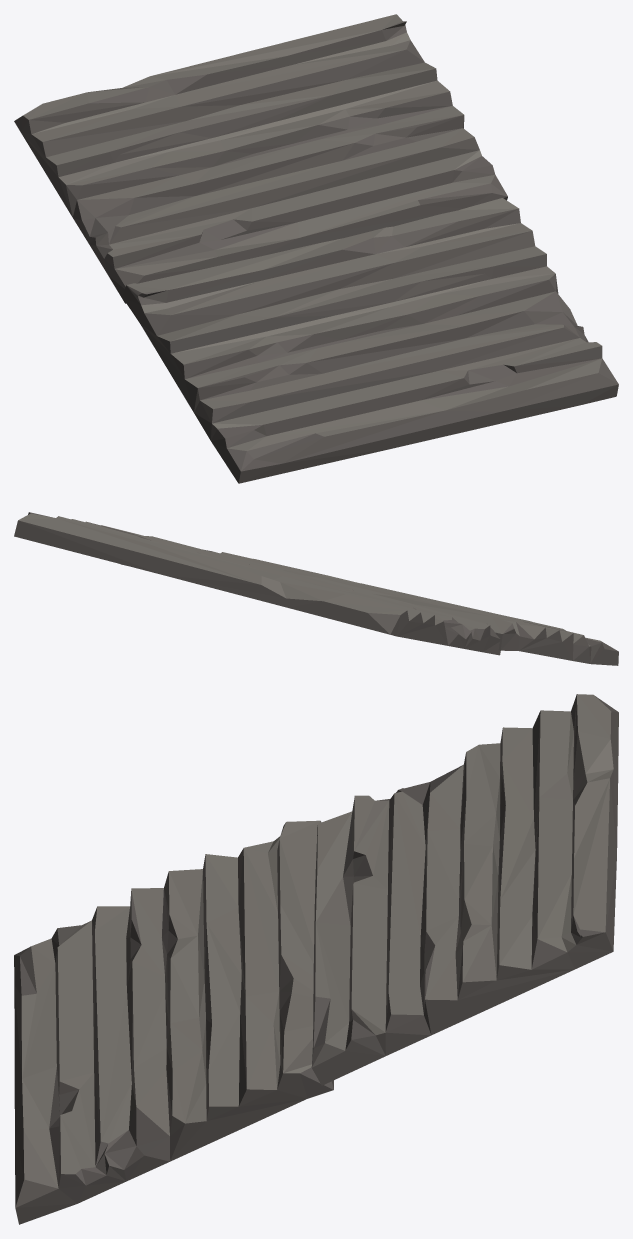
Rendered from SM_Env_Stairs_02.FBX.
3 renders of one model, top to bottom at view 1: azimuth 30°, elevation 25°; view 2: azimuth 150°, elevation 25°; view 3: azimuth 270°, elevation 25°, orthographic. The views are drawn at different scales.
Visible parts, largest first — view 1: SM_Env_Stairs_02; view 2: SM_Env_Stairs_02; view 3: SM_Env_Stairs_02.
Part boxes in pixels (x1,y1,x2,y2): SM_Env_Stairs_02: (14, 14, 618, 483); SM_Env_Stairs_02: (14, 512, 618, 665); SM_Env_Stairs_02: (14, 694, 618, 1224).
Size of what is drawn, in the model's own units: 497 by 515 by 276.
